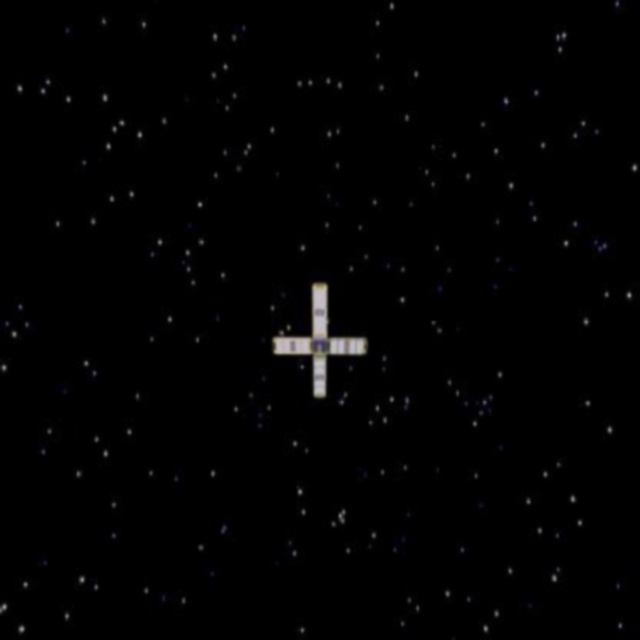medium_debris: (265, 271, 375, 412)
